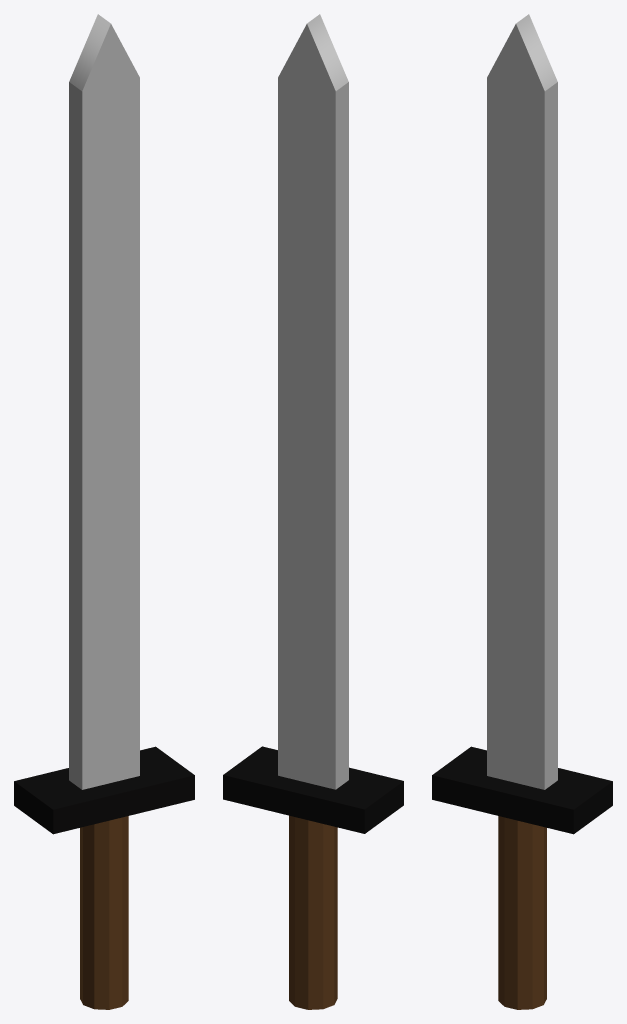
The model's file is sword.fbx.
3 renders of one model, left to right at view 1: azimuth 30°, elevation 25°; view 2: azimuth 150°, elevation 25°; view 3: azimuth 330°, elevation 25°, orthographic.
Visible parts, largest first — view 1: sword; view 2: sword; view 3: sword.
Part boxes in pixels (left/top/right/bottom): sword: left=14, top=14, right=194, bottom=1009; sword: left=223, top=14, right=403, bottom=1009; sword: left=432, top=14, right=612, bottom=1009.
Size of the model in its own units: 20.13 by 133 by 9.62.
